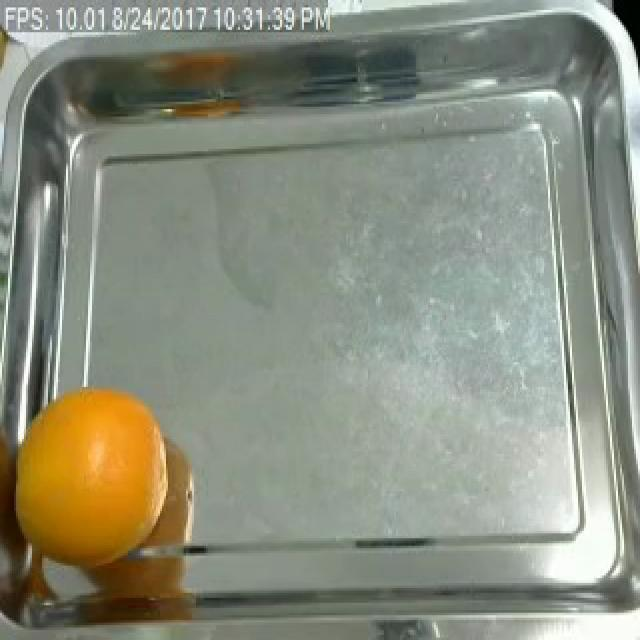Fruit: (6, 375, 176, 583)
